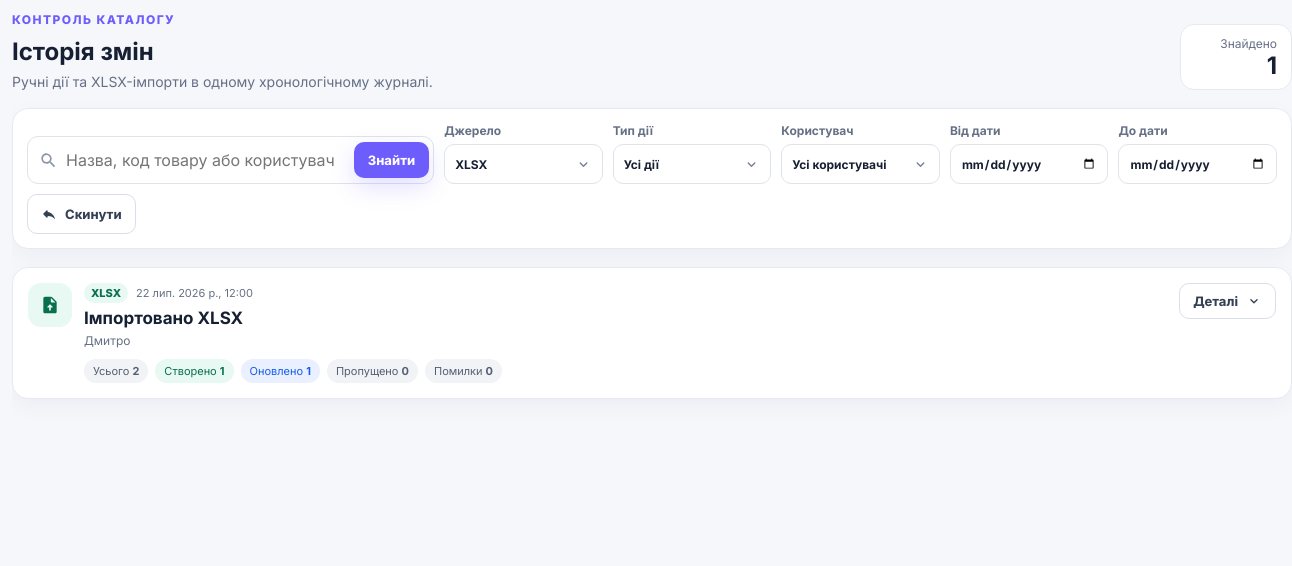
Scenario: CatalogAuditPage › opens a grouped XLSX import and loads its row details
Expected: the heading "Імпортовано XLSX" is shown, [84,308,253,328]
Expected: the button with aria-label "Джерело" reads "XLSX", [444,144,603,184]
Click the button "Деталі": (1228, 301) [1179,283,1276,319]
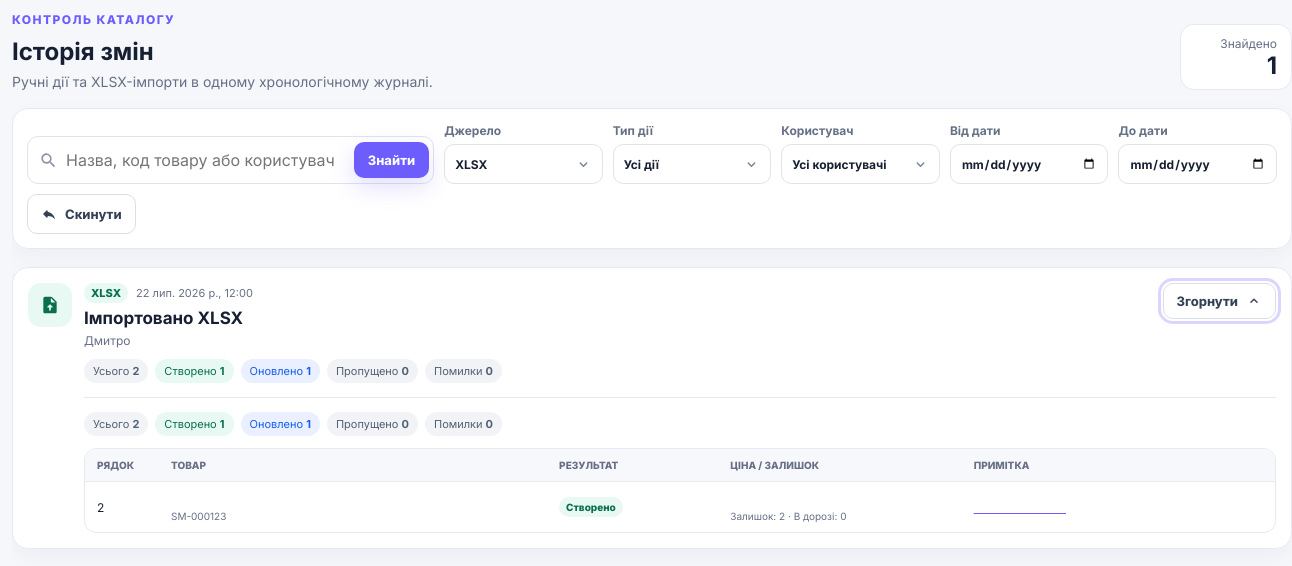
Now the text "SM-000123" is shown, box [171,510,226,522]
